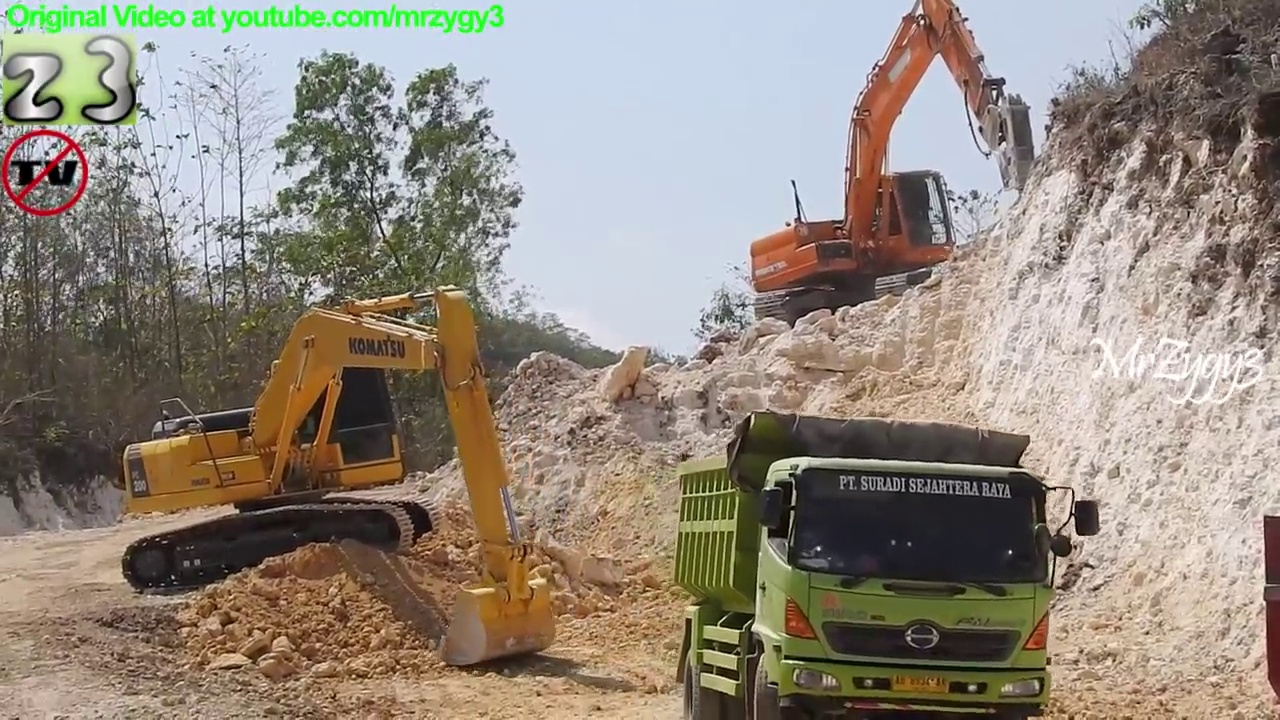excavator: (113, 279, 562, 675), (742, 1, 1041, 338)
truck: (665, 405, 1111, 720), (1258, 507, 1280, 705)
